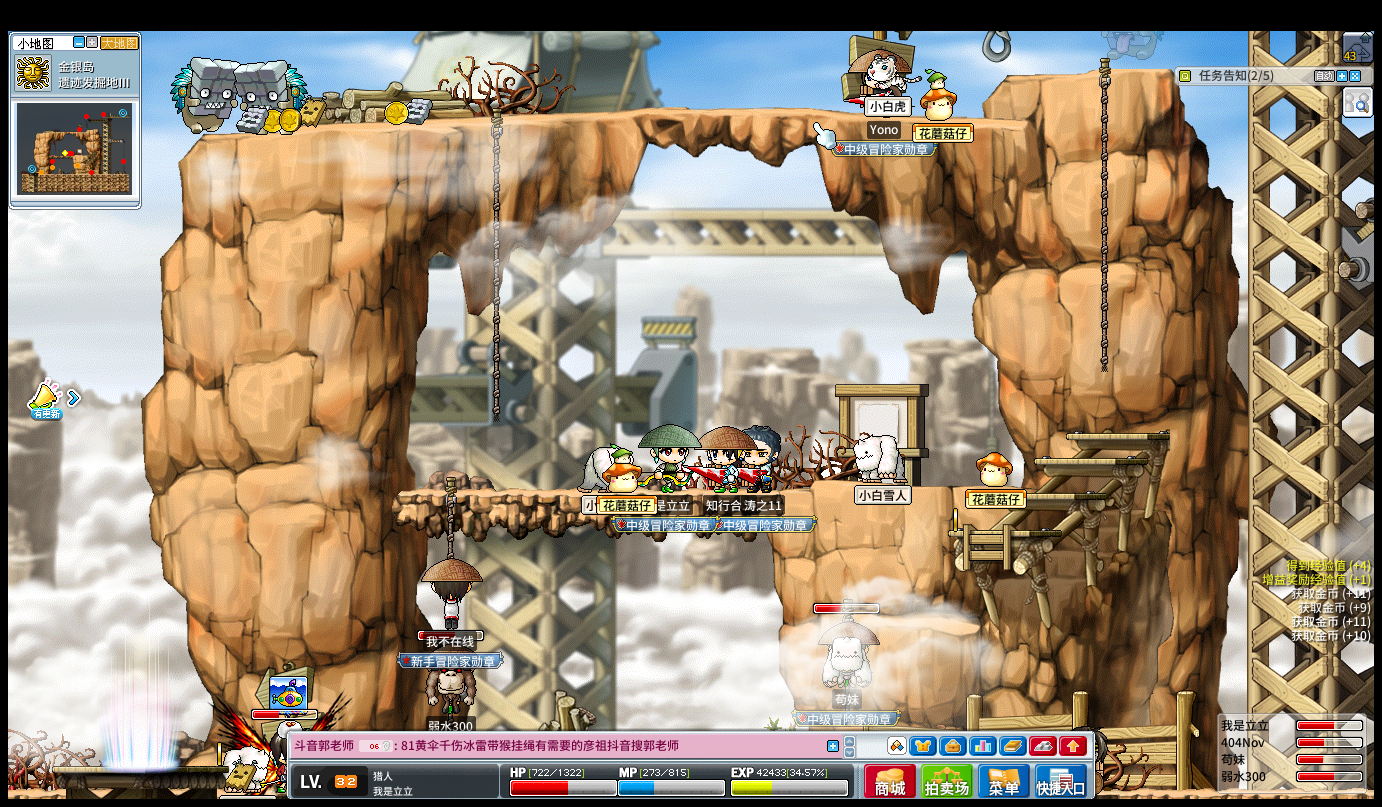floor: (205, 105, 1030, 137), (396, 487, 779, 499), (859, 614, 982, 636), (1003, 67, 1174, 81), (910, 483, 1045, 493), (1064, 429, 1172, 441), (949, 528, 1062, 537), (1031, 456, 1147, 464), (1013, 492, 1106, 499)
monster: (169, 56, 238, 135), (257, 59, 307, 135)
rope: (488, 108, 503, 428), (1099, 55, 1112, 376), (442, 475, 457, 558)
